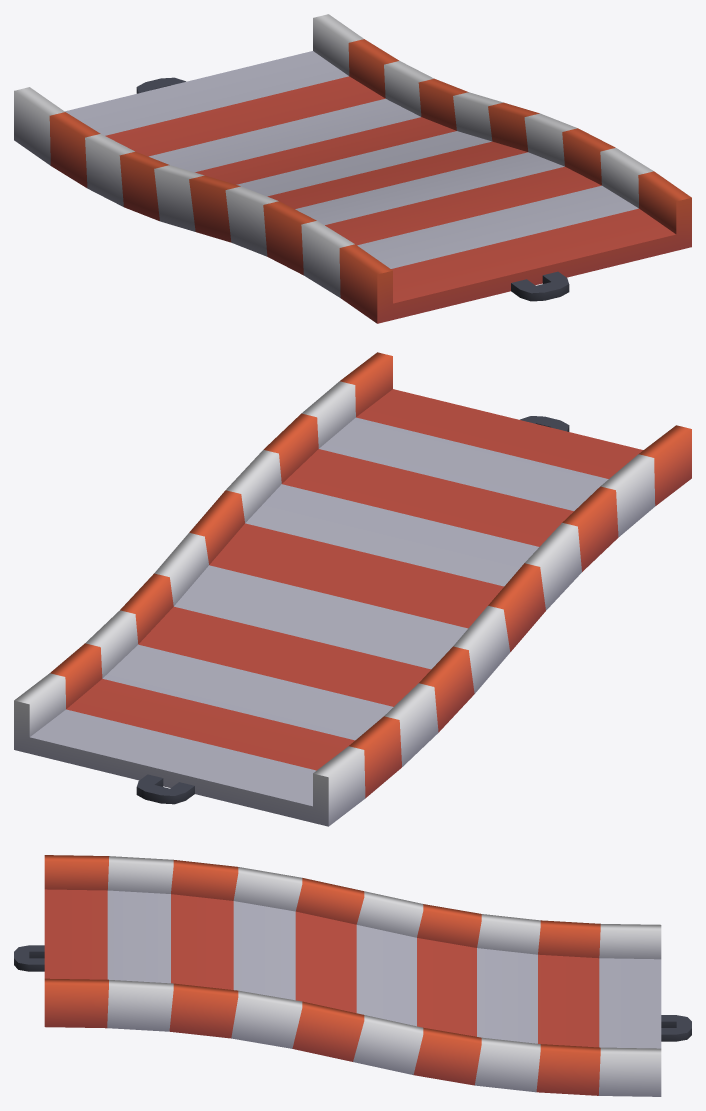
Rendered from track-striped-wide-straight-hill-complete-half.glb.
3 renders of one model, top to bottom at view 1: azimuth 30°, elevation 25°; view 2: azimuth 150°, elevation 25°; view 3: azimuth 270°, elevation 25°, orthographic. The views are drawn at different scales.
Parts seen in each view (by area): view 1: track-striped-wide-straight-hill-complete-half; view 2: track-striped-wide-straight-hill-complete-half; view 3: track-striped-wide-straight-hill-complete-half.
Boxes of the visible parts, x1,y1,x2,y2 form: track-striped-wide-straight-hill-complete-half: (14, 14, 691, 323); track-striped-wide-straight-hill-complete-half: (14, 352, 691, 826); track-striped-wide-straight-hill-complete-half: (14, 855, 691, 1096).
Bounding box in the file's own units: 2 × 0.8 × 4.4.
